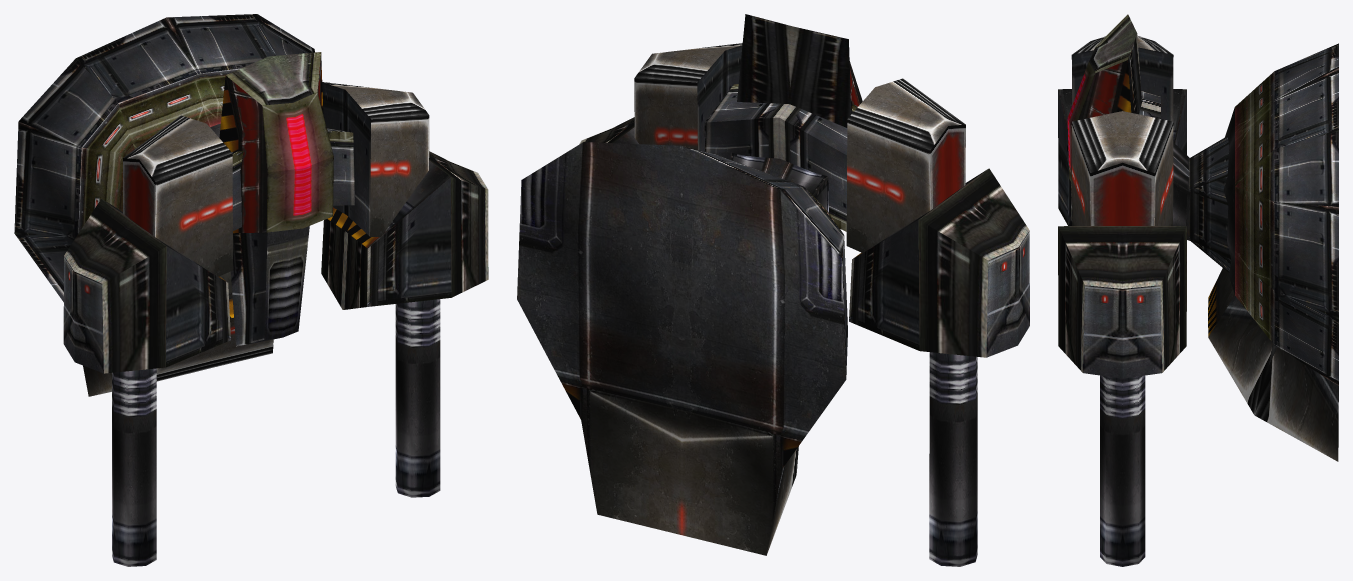
Rendered from turret-10.obj.
3 views of the same model, side by side, from view 1: azimuth 30°, elevation 25°; view 2: azimuth 150°, elevation 25°; view 3: azimuth 270°, elevation 25° (orthographic). The views are drawn at different scales.
Visible parts, largest first — view 1: body, gun_02, gun_01, head, barrel_01, barrel_02; view 2: body, gun_02, head, barrel_02, gun_01; view 3: body, gun_01, barrel_01, head, gun_02.
Boxes of the visible parts, x1,y1,x2,y2 form: body: (14,14,314,396); gun_02: (63,115,232,373); gun_01: (321,82,488,309); head: (219,52,355,346); barrel_01: (395,299,440,497); barrel_02: (112,368,156,566); body: (517,142,847,555); gun_02: (846,78,1029,357); head: (704,14,862,231); barrel_02: (929,352,977,566); gun_01: (579,43,742,151); body: (1189,43,1338,461); gun_01: (1058,111,1186,378); barrel_01: (1100,375,1145,566); head: (1067,14,1189,240); gun_02: (1058,35,1186,225).
Bounding box in the file's own units: 4.53 × 4.94 × 2.76.
1 material, 1 textured.
